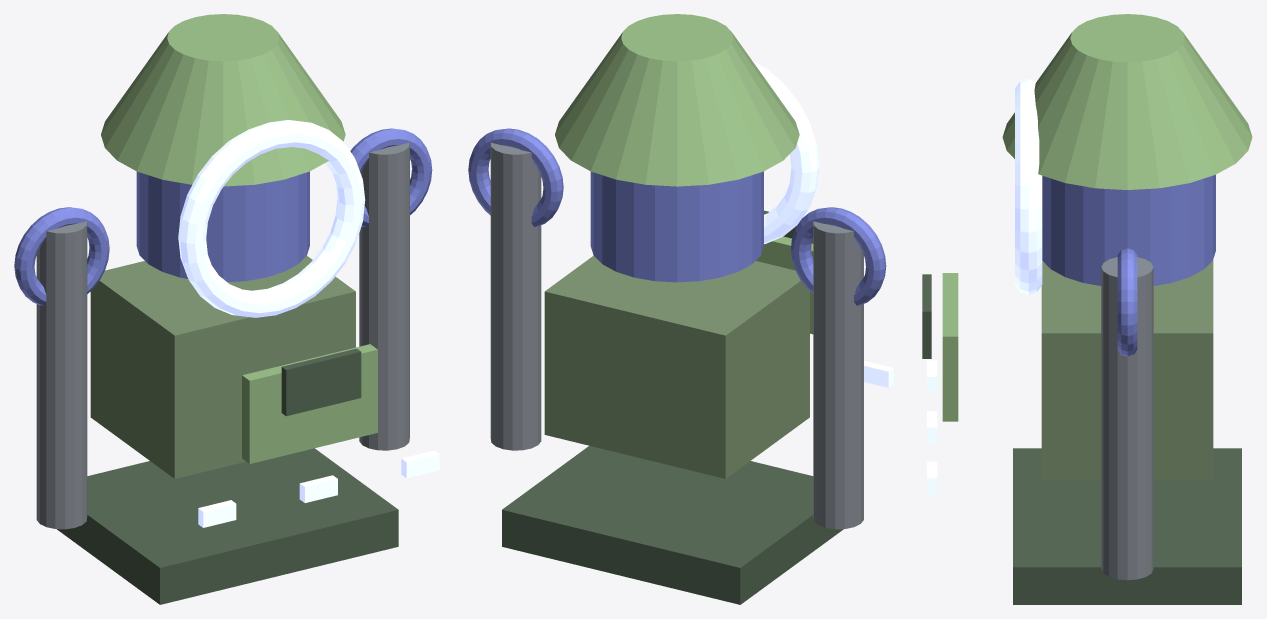
Rendered from asset.glb.
The picture shows the model from 3 angles, left to right: view 1: azimuth 30°, elevation 25°; view 2: azimuth 150°, elevation 25°; view 3: azimuth 270°, elevation 25°; orthographic projection. The views are drawn at different scales.
Parts seen in each view (by area): view 1: Housing, Foot, TopCap, SidePost_-1, CoreHalo, Core, SidePost_1, FrontInset, ControlFace, SideRing_-1, SideRing_1, FunctionalTrim_1 (+2 smaller); view 2: Housing, Foot, TopCap, Core, SidePost_1, SidePost_-1, CoreHalo, SideRing_-1, SideRing_1, FrontInset, FunctionalTrim_0; view 3: TopCap, Foot, Housing, SidePost_1, Core, CoreHalo, FrontInset, SideRing_1, ControlFace.
Part boxes in pixels (x1,y1,x2,y2): Housing: (90,256,355,478); Foot: (57,448,398,604); TopCap: (101,14,345,186); SidePost_-1: (36,216,87,529); CoreHalo: (178,120,365,317); Core: (136,171,309,282); SidePost_1: (359,137,409,450); FrontInset: (242,344,377,463); ControlFace: (281,348,361,416); SideRing_-1: (14,207,109,305); SideRing_1: (350,128,432,226); FunctionalTrim_1: (299,475,337,502); Housing: (544,255,809,478); Foot: (502,446,843,604); TopCap: (555,14,799,186); Core: (590,171,763,282); SidePost_1: (490,137,541,450); SidePost_-1: (813,216,863,529); CoreHalo: (752,60,819,244); SideRing_-1: (791,207,886,305); SideRing_1: (468,128,563,226); FrontInset: (756,236,813,334); FunctionalTrim_0: (864,361,893,387); TopCap: (1002,14,1252,189); Foot: (1013,448,1241,604); Housing: (1041,260,1213,479); SidePost_1: (1101,257,1153,580); Core: (1042,174,1215,285); CoreHalo: (1015,79,1042,294); FrontInset: (942,273,958,421); SideRing_1: (1117,248,1137,356); ControlFace: (922,274,931,358).
Bounding box in the file's own units: 1.88 × 2.15 × 1.27.
